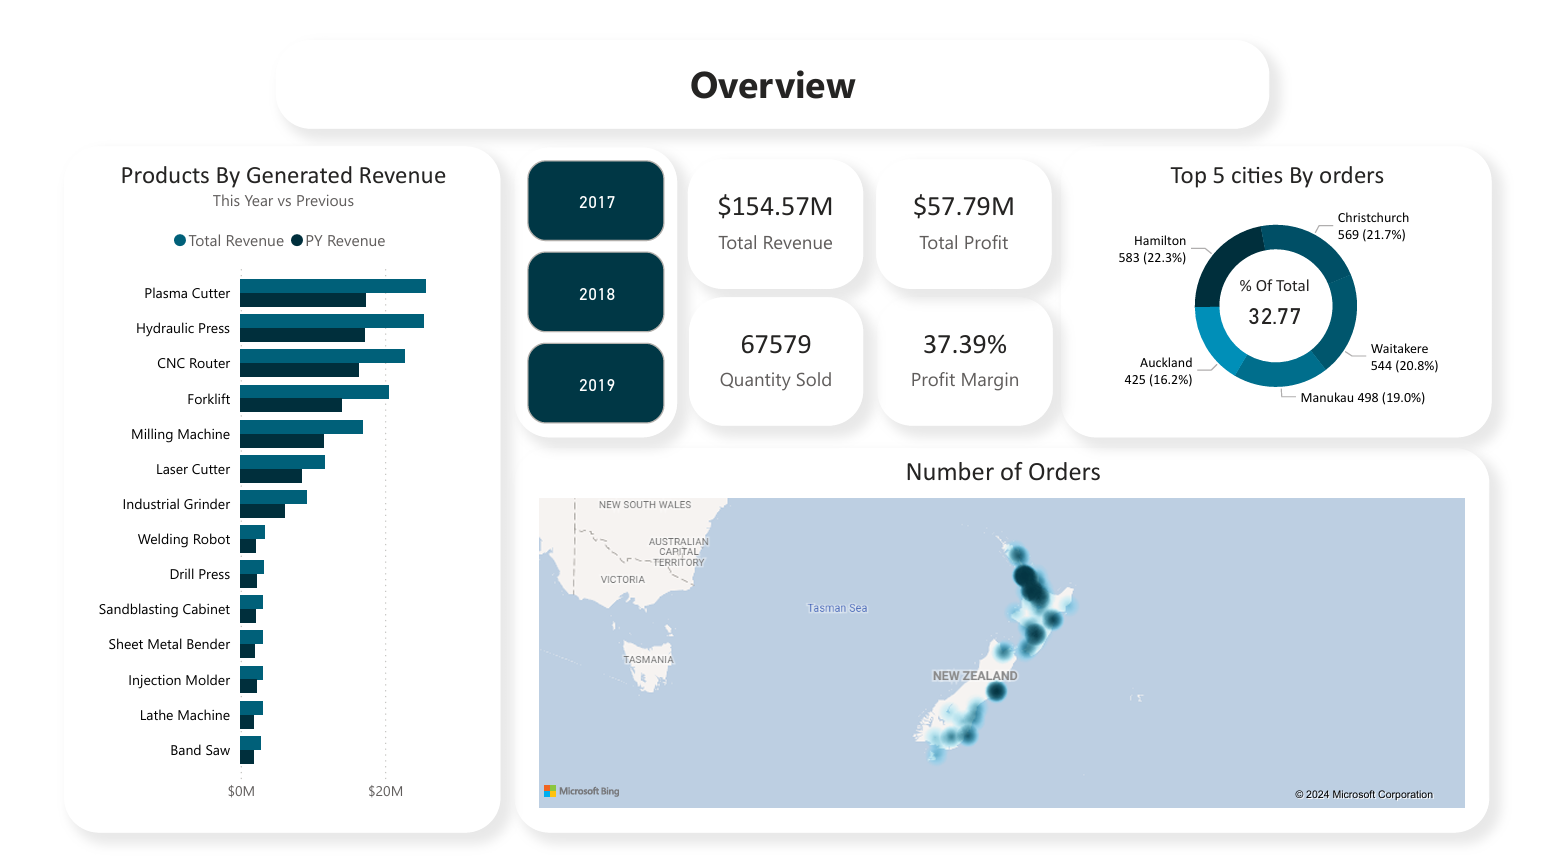

Layout of this report page (visuals, bound fields, positions):
{"tool":"powerbi","page":{"name":"Overview","canvas":[1280,720],"ordinal":0},"visuals":[{"type":"map","fields":{"Category":["Regions_Table.City"],"Size":["DAX measures.# of orders"]},"box":[419.9,360.3,833.4,328.6],"z":0},{"type":"donutChart","title":"Top 5 cities By orders","fields":{"Y":["DAX measures.# of orders"],"Category":["Regions_Table.City"]},"box":[887.3,102.3,367.3,248.2],"z":1000},{"type":"card","title":"% Of Total","fields":{"Values":["DAX measures.Percent of Total Orders (Top 5 Cities)"]},"box":[1033.9,211.8,71,58.4],"z":2000},{"type":"textbox","box":[216.2,11.2,848.7,76.2],"z":3000},{"type":"advancedSlicerVisual","title":"Year","fields":{"Values":["Date_Table.Year"]},"box":[419.9,102.8,139.5,248.6],"z":4000},{"type":"clusteredBarChart","title":"Products By Generated Revenue","fields":{"Category":["Products_Data.Product Name"],"Y":["DAX measures.Total Revenue","DAX measures.PY Revenue"]},"box":[35.2,102.3,372.4,587.1],"z":5000},{"type":"cardVisual","fields":{"Data":["DAX measures.Total Revenue","DAX measures.Total Profit","DAX measures.Quantity Sold","DAX measures.Profit Margin"]},"box":[569.6,102.8,307,248.6],"z":6000}]}

Visuals, with their boxes in screenshot pixels (x1, y1, x2, y2), scaled from the page's 1280x720 canvas onto the 1543x867 screenshot:
map - Regions_Table.City x DAX measures.# of orders: bbox=[506, 434, 1511, 830]
"Top 5 cities By orders" donutChart: bbox=[1070, 123, 1512, 422]
"% Of Total" card: bbox=[1246, 255, 1332, 325]
textbox: bbox=[261, 13, 1284, 105]
"Year" advancedSlicerVisual: bbox=[506, 124, 674, 423]
"Products By Generated Revenue" clusteredBarChart: bbox=[42, 123, 491, 830]
cardVisual - DAX measures.Total Revenue x DAX measures.Total Profit: bbox=[687, 124, 1057, 423]
